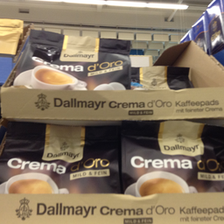coffee: (1, 123, 123, 195), (123, 120, 224, 195), (15, 30, 132, 92)
